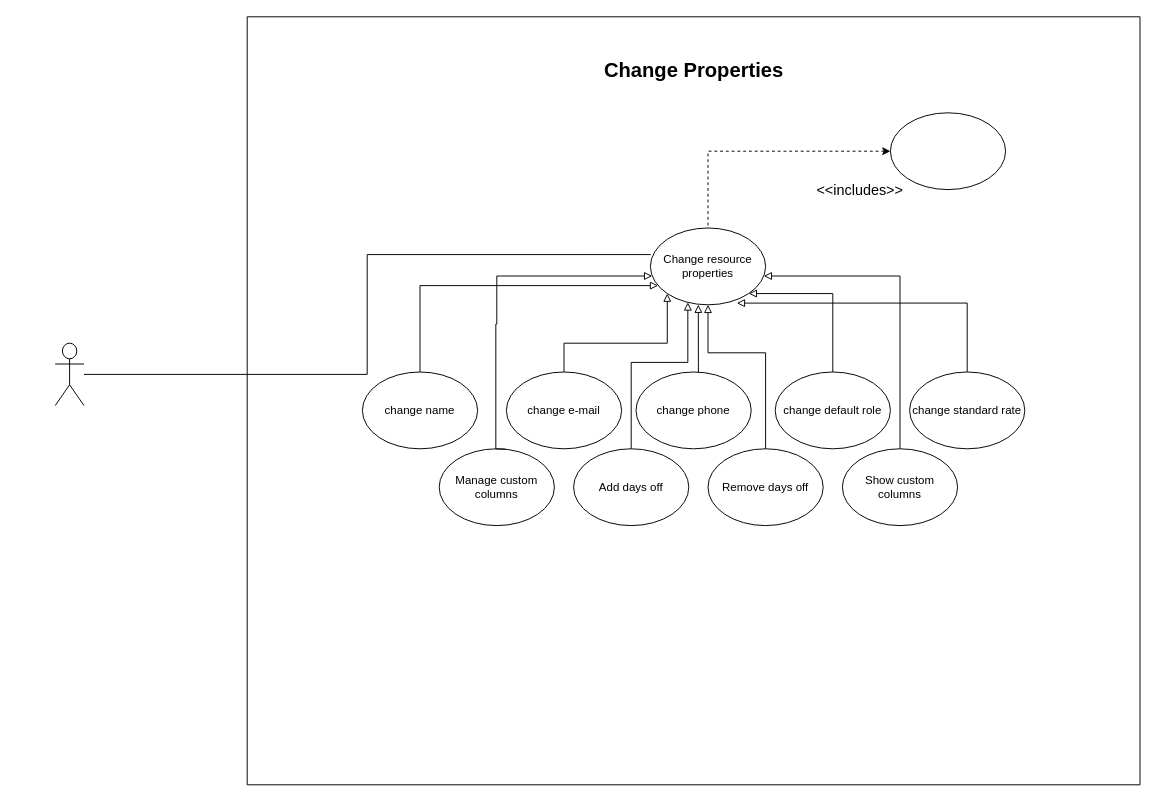
This 1157x802 diagram has some shape labels left out. The shapes that lost their labels are listed below. From the top down, each one's box as (x1, y1, x2, y2) in pixels, then its label:
(889, 112, 1006, 190): Open Resource Properties
(54, 342, 84, 406): Project Manager
